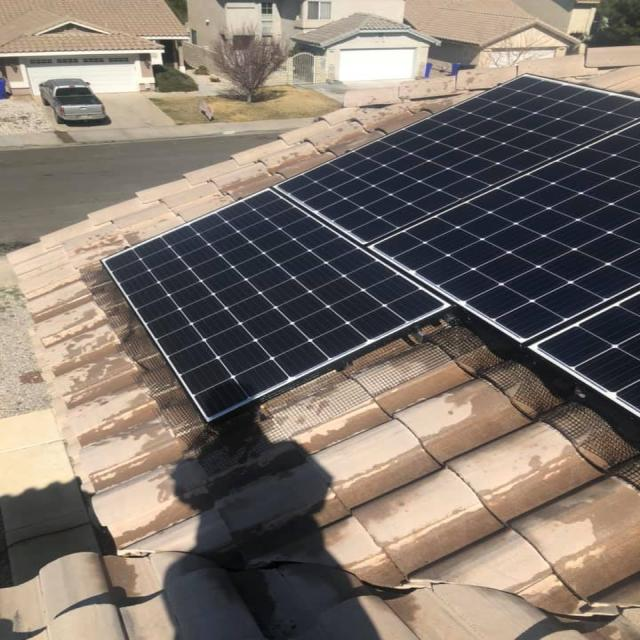clean-solar-panel: (105, 76, 638, 420)
